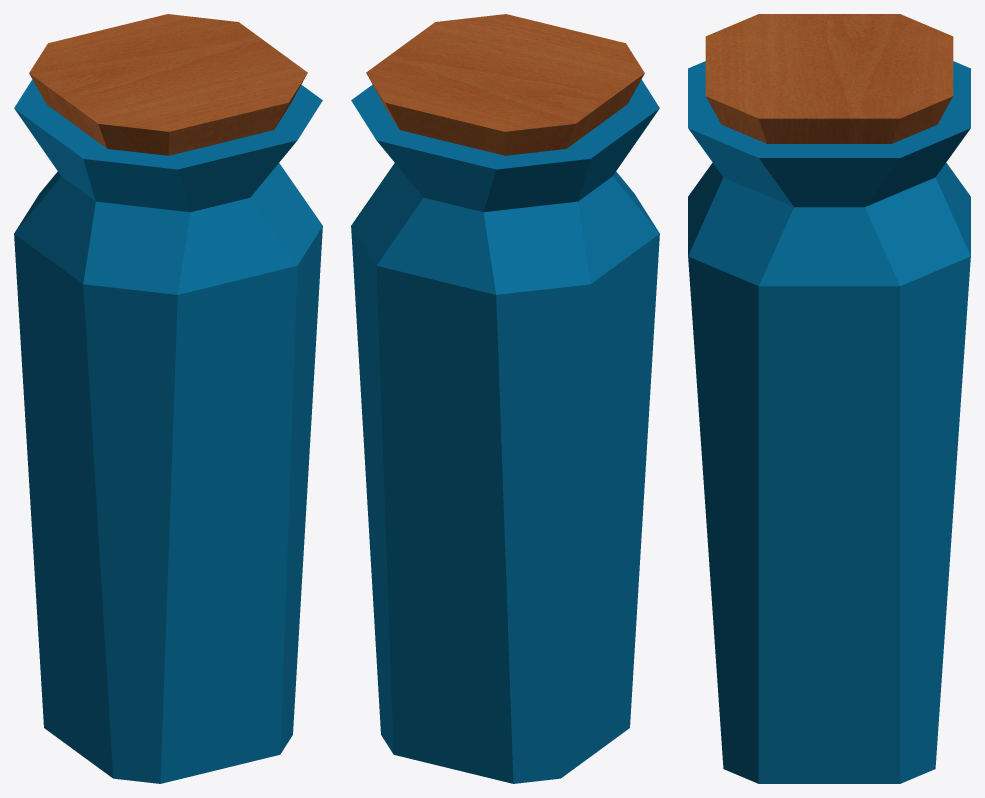
Rendered from bottlea.gltf.
The picture shows the model from 3 angles, left to right: view 1: azimuth 30°, elevation 25°; view 2: azimuth 150°, elevation 25°; view 3: azimuth 270°, elevation 25°; orthographic projection. The views are drawn at different scales.
Parts seen in each view (by area): view 1: potion, Cork; view 2: potion, Cork; view 3: potion, Cork.
Boxes of the visible parts, <box> form: potion: <box>14,79,322,783</box>; Cork: <box>29,14,307,155</box>; potion: <box>351,79,659,783</box>; Cork: <box>366,14,644,155</box>; potion: <box>688,61,970,783</box>; Cork: <box>705,14,953,143</box>.
Size of the model in its own units: 0.0878 by 0.2304 by 0.0878.
Materials: 3 (2 with a texture image).
